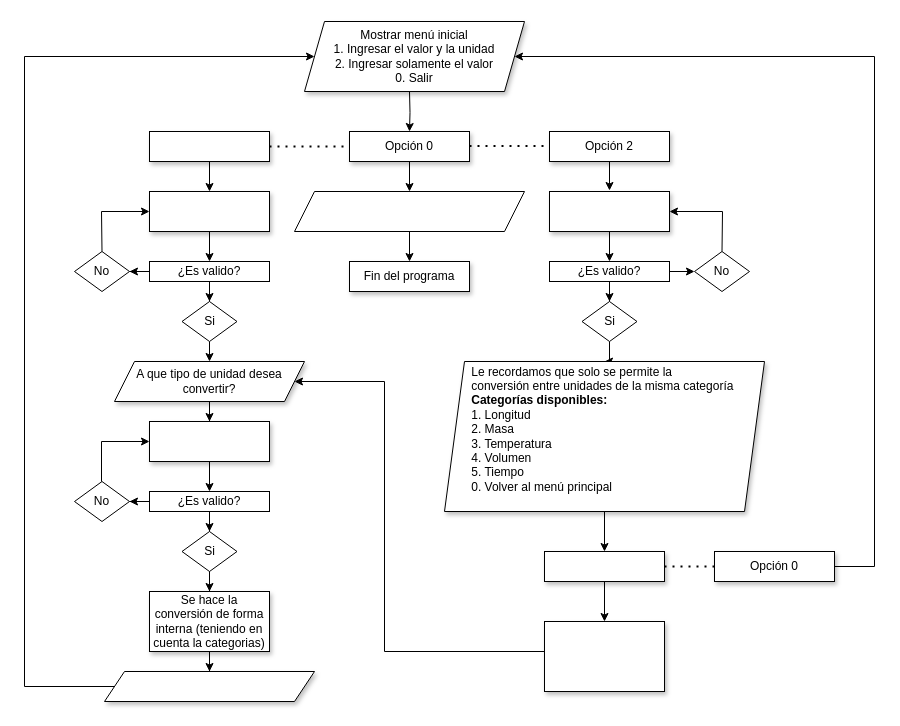
Image size: 900x726. Some labels were removed from this diagram. The shapes that lost their labels are listed below. From the top down, each one's centre as x and y in pixels, then its label:
the point at 210,147: Opción 1
the point at 210,212: El usuario ingresa una unidad y luego un valor
the point at 409,211: Gracias por usar el Convertidor de Unidades Avanzadas. ¡Hasta luego!
the point at 610,212: El usuario ingresa un valor
the point at 210,442: El usuario ingresa una unidad
the point at 605,567: Opciones 1-5
the point at 605,657: Se usara la unidad por defecto de la categoría
the point at 210,687: Se muestra el resultado al usuario
